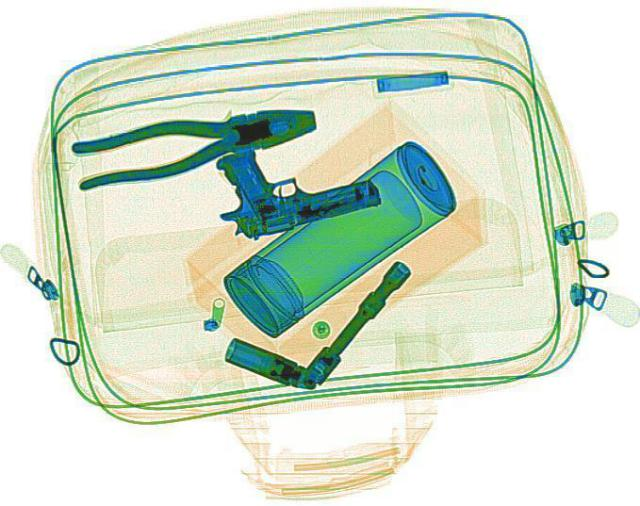Gun: (196, 123, 384, 242)
Pliers: (61, 93, 326, 190)
